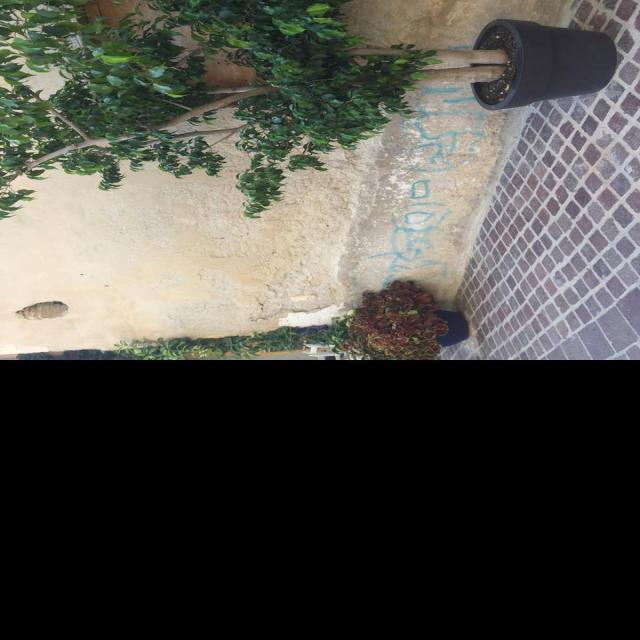nonspitting: (383, 45, 485, 285)
